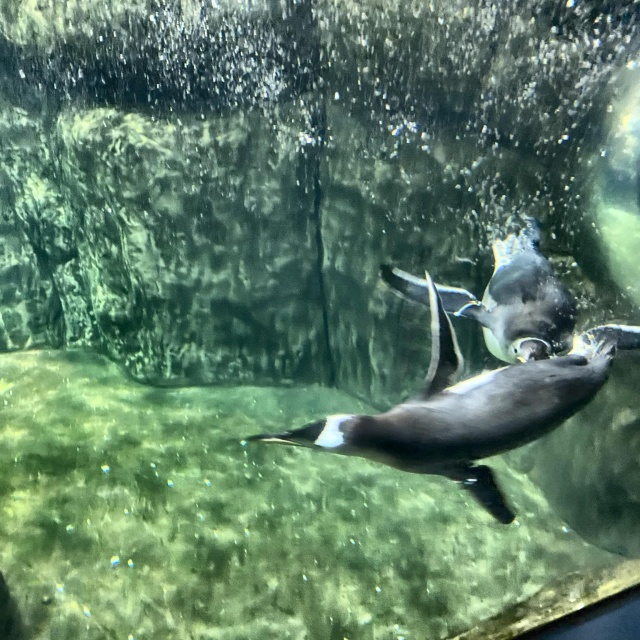penguin: (248, 269, 639, 525), (382, 218, 583, 368)
